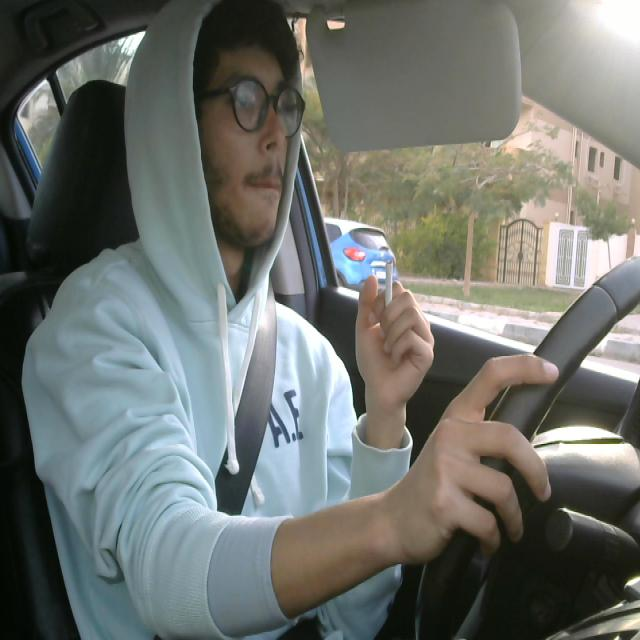smoking: (376, 258, 396, 336)
